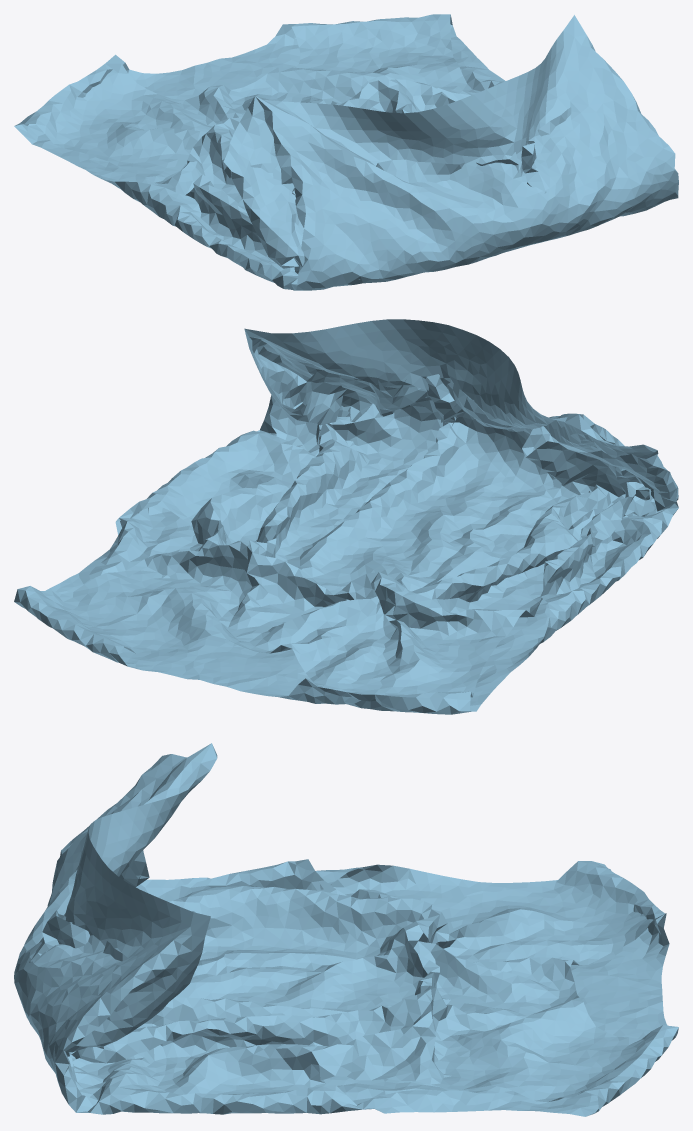
The model's file is frame_10.glb.
3 views of the same model, one above another, from view 1: azimuth 30°, elevation 25°; view 2: azimuth 150°, elevation 25°; view 3: azimuth 270°, elevation 25° (orthographic). The views are drawn at different scales.
Visible parts, largest first — view 1: frame_10.obj; view 2: frame_10.obj; view 3: frame_10.obj.
Boxes of the visible parts, left/top/right/bottom form: frame_10.obj: left=14, top=14, right=678, bottom=290; frame_10.obj: left=14, top=319, right=678, bottom=714; frame_10.obj: left=14, top=743, right=678, bottom=1116.
Size of the model in its own units: 1.24 by 0.4292 by 1.43.
